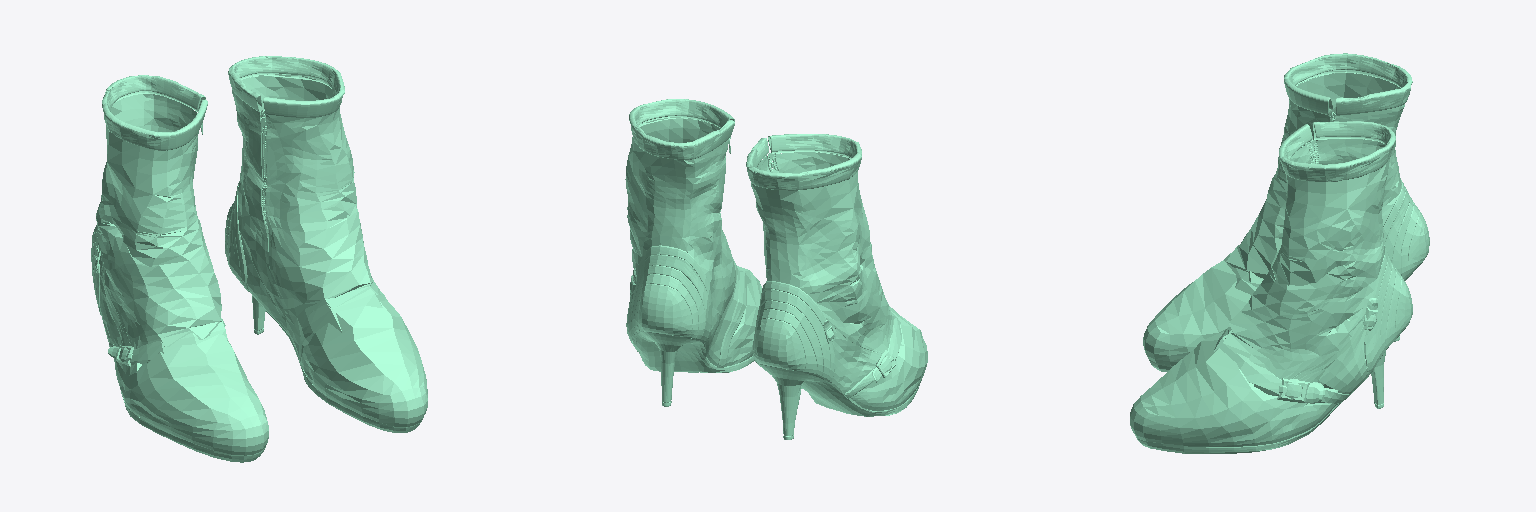
Rendered from gaogenxie4.obj.
3 views of the same model, side by side, from view 1: azimuth 30°, elevation 25°; view 2: azimuth 150°, elevation 25°; view 3: azimuth 270°, elevation 25° (orthographic).
Visible parts, largest first — view 1: file.001; view 2: file.001; view 3: file.001.
Boxes of the visible parts, box(x1,y1,x2,y2) form: file.001: box(91, 56, 427, 462); file.001: box(625, 99, 927, 439); file.001: box(1130, 53, 1429, 453).
Size of the model in its own units: 2.15 by 2.31 by 2.13.